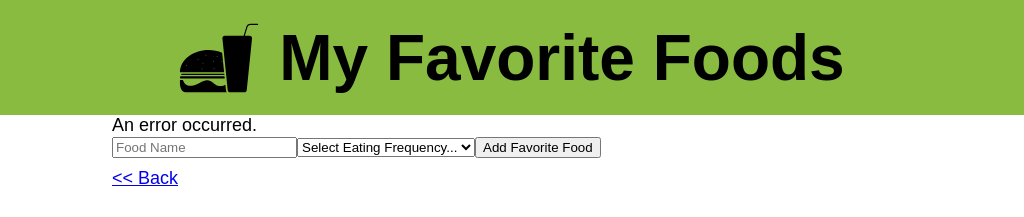
Test: Adding Favorite Foods to a User › when the user does not select an Eating Frequency › shows an error
The image size is (1024, 217).
# Fill in only Eating Frequency
Type "Fluffernutter Sandwich" into the field with placeholder "Food Name". click: (205, 148)
box: left=112, top=137, right=297, bottom=158
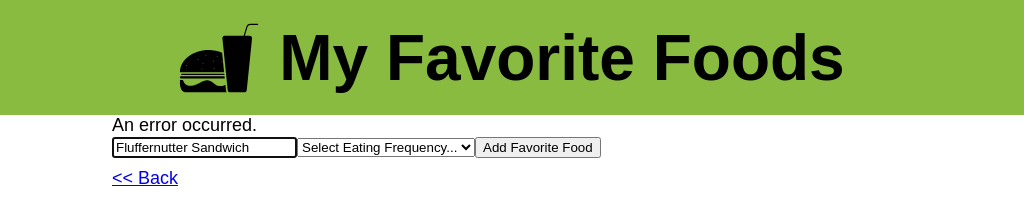
# Submit form
Click the button "Add Favorite Food". click: (538, 148)
box: left=475, top=137, right=601, bottom=158
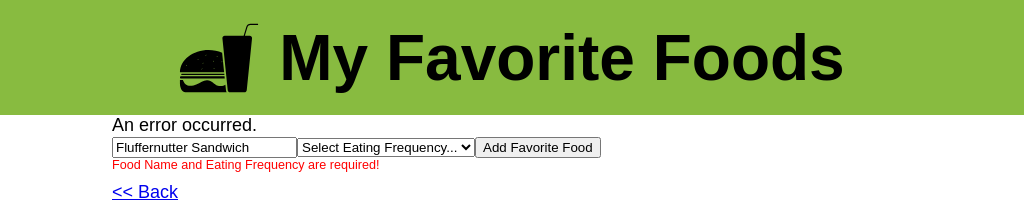
expect the text "Food Name and Eating Frequency are required!" is shown: met, box left=112, top=158, right=379, bottom=172
